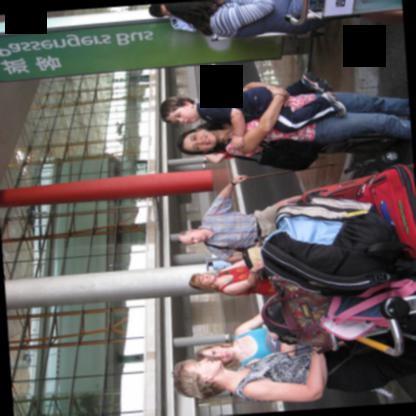backpack: (260, 195, 402, 297)
handbag: (261, 276, 333, 347), (242, 338, 373, 375), (228, 140, 321, 171), (241, 245, 262, 269)
suitcase: (356, 161, 416, 261), (301, 174, 377, 202)
